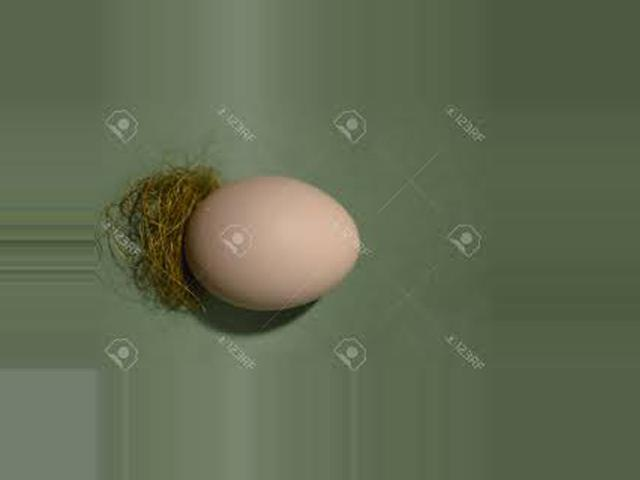egg: (186, 177, 360, 310)
